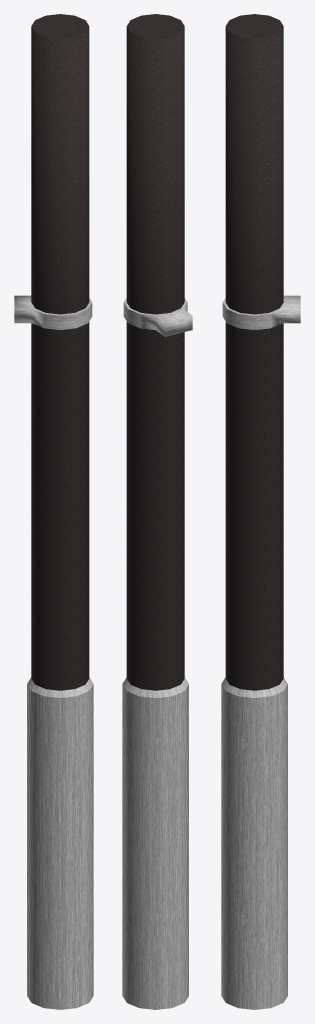
File: drainpipeBottom.glb
3 views of the same model, side by side, from view 1: azimuth 90°, elevation 25°; view 2: azimuth 210°, elevation 25°; view 3: azimuth 270°, elevation 25° (orthographic).
Visible parts, largest first — view 1: Cylinder; view 2: Cylinder; view 3: Cylinder.
Part boxes in pixels (x1,y1,x2,y2): Cylinder: (14,14,93,1009); Cylinder: (122,14,192,1009); Cylinder: (221,14,300,1009).
Size of the model in its own units: 0.4073 by 6.53 by 0.4849.
Materials: 2 (2 with a texture image).
